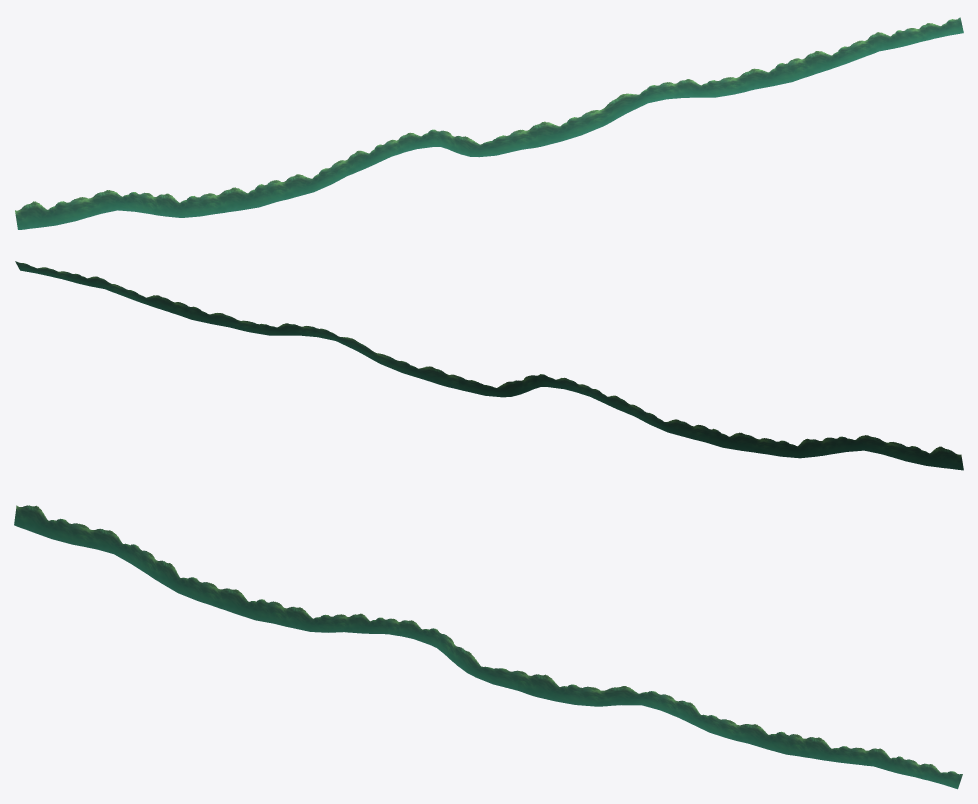
Rendered from Grass Landscape BG2.FBX.
3 renders of one model, top to bottom at view 1: azimuth 30°, elevation 25°; view 2: azimuth 150°, elevation 25°; view 3: azimuth 330°, elevation 25°, orthographic.
Visible parts, largest first — view 1: LVL 1 Grass BG2 5, LVL 1 Grass BG2 1, LVL 1 Grass BG2 2, LVL 1 Grass BG2 4, LVL 1 Grass BG2 3; view 2: LVL 1 Grass BG2 1, LVL 1 Grass BG2 5, LVL 1 Grass BG2 2, LVL 1 Grass BG2 4, LVL 1 Grass BG2 3; view 3: LVL 1 Grass BG2 5, LVL 1 Grass BG2 1, LVL 1 Grass BG2 2, LVL 1 Grass BG2 4, LVL 1 Grass BG2 3.
Boxes of the visible parts, x1=… form: LVL 1 Grass BG2 5: x1=679, y1=17, x2=963, y2=97; LVL 1 Grass BG2 1: x1=15, y1=190, x2=220, y2=229; LVL 1 Grass BG2 2: x1=219, y1=142, x2=391, y2=213; LVL 1 Grass BG2 4: x1=517, y1=81, x2=682, y2=149; LVL 1 Grass BG2 3: x1=387, y1=129, x2=520, y2=157; LVL 1 Grass BG2 1: x1=757, y1=435, x2=963, y2=470; LVL 1 Grass BG2 5: x1=15, y1=261, x2=301, y2=335; LVL 1 Grass BG2 2: x1=589, y1=387, x2=761, y2=453; LVL 1 Grass BG2 4: x1=297, y1=325, x2=460, y2=389; LVL 1 Grass BG2 3: x1=457, y1=374, x2=589, y2=397; LVL 1 Grass BG2 5: x1=676, y1=700, x2=962, y2=789; LVL 1 Grass BG2 1: x1=14, y1=505, x2=220, y2=607; LVL 1 Grass BG2 2: x1=216, y1=588, x2=388, y2=634; LVL 1 Grass BG2 4: x1=517, y1=671, x2=680, y2=716; LVL 1 Grass BG2 3: x1=388, y1=618, x2=520, y2=690.
Size of the model in its own units: 18696 by 199 by 1263.
